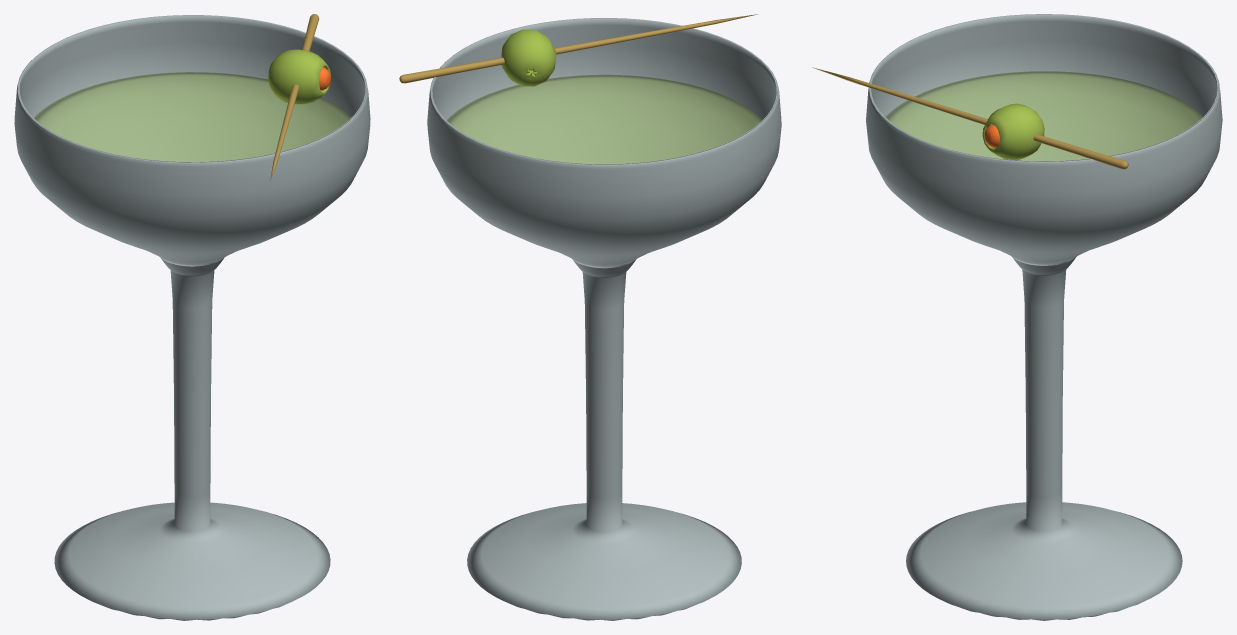
3 views of the same model, side by side, from view 1: azimuth 30°, elevation 25°; view 2: azimuth 150°, elevation 25°; view 3: azimuth 270°, elevation 25° (orthographic).
Parts seen in each view (by area): view 1: Cylinder.001, Cylinder, liquid, Cylinder.002, Sphere, Cylinder.003; view 2: Cylinder.001, Cylinder, liquid, Cylinder.002, Sphere, Cylinder.003; view 3: Cylinder.001, Cylinder, liquid, Cylinder.002, Sphere, Cylinder.003.
Part boxes in pixels (left/top/right/bottom): Cylinder.001: left=14, top=16, right=370, bottom=265; Cylinder: left=54, top=257, right=330, bottom=620; liquid: left=34, top=72, right=350, bottom=161; Cylinder.002: left=16, top=15, right=368, bottom=171; Sphere: left=268, top=49, right=330, bottom=104; Cylinder.003: left=270, top=14, right=319, bottom=181; Cylinder.001: left=427, top=18, right=781, bottom=266; Cylinder: left=467, top=259, right=741, bottom=620; liquid: left=447, top=74, right=762, bottom=164; Cylinder.002: left=429, top=18, right=779, bottom=173; Sphere: left=501, top=29, right=556, bottom=86; Cylinder.003: left=399, top=14, right=757, bottom=83; Cylinder.001: left=866, top=14, right=1222, bottom=264; Cylinder: left=906, top=256, right=1182, bottom=620; liquid: left=885, top=71, right=1202, bottom=161; Cylinder.002: left=867, top=14, right=1220, bottom=170; Sphere: left=982, top=103, right=1044, bottom=160; Cylinder.003: left=812, top=67, right=1128, bottom=169.
Size of the model in its own units: 0.0977 by 0.1463 by 0.1087.
